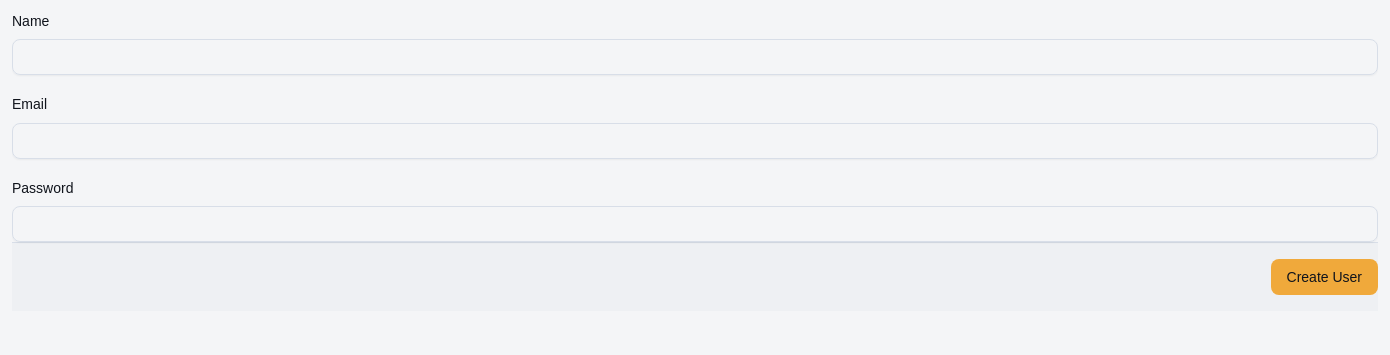
Test: CreateUserForm › shows the server error message and keeps the form open when submission fails
In the field labelled "Name": (695, 57) [12,39,1378,75], type "Ada Lovelace"
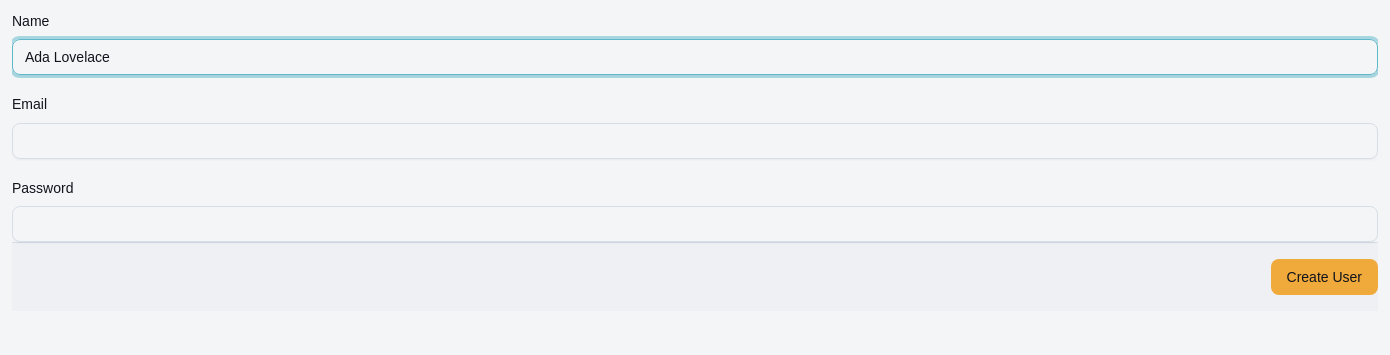
In the field labelled "Email": (695, 140) [12,122,1378,158], type "ada@example.com"
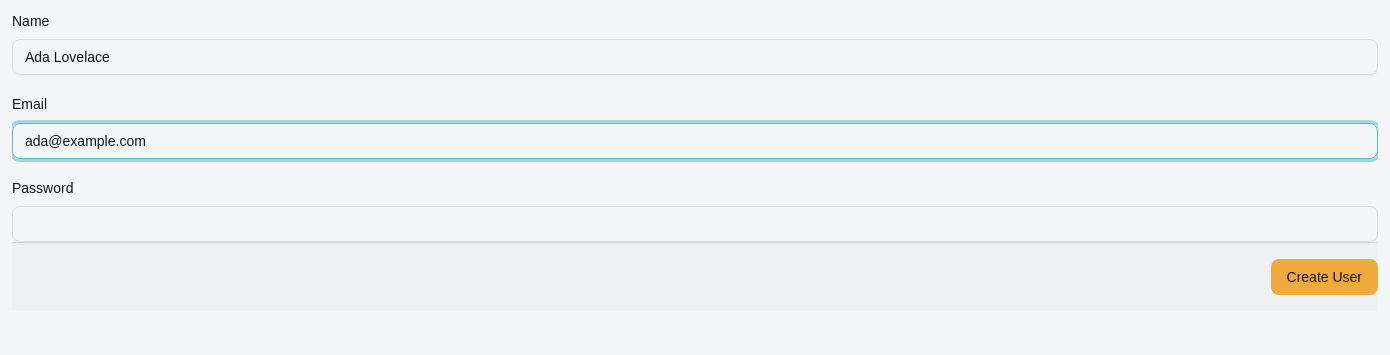
In the password field labelled "Password": (695, 224) [12,206,1378,242], type "password123"
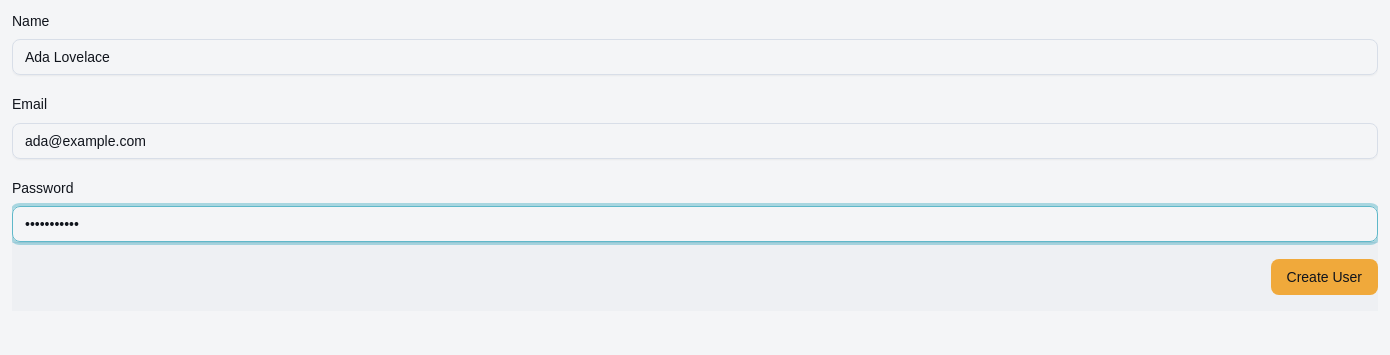
Click the button "Create User": (1324, 277) [1270,259,1378,295]
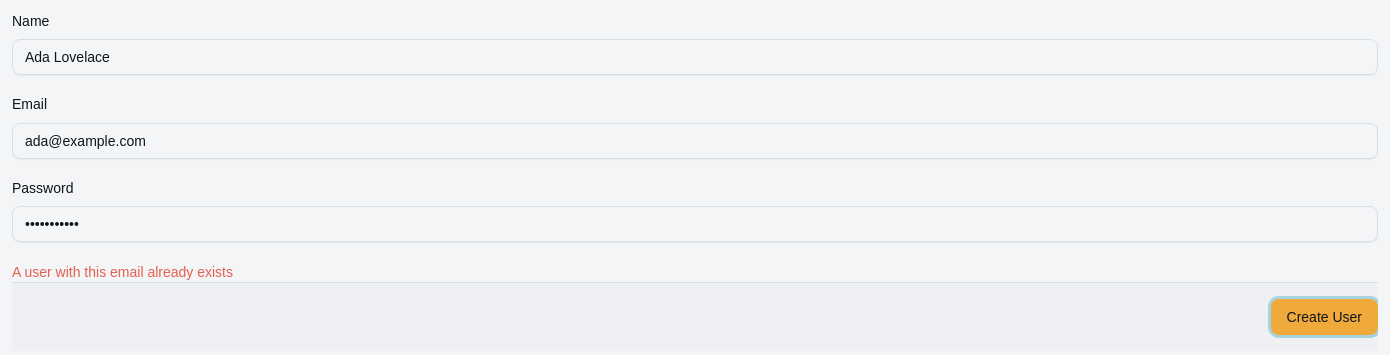
Check: the text "A user with this email already exists" is shown, box [12,264,233,280]
